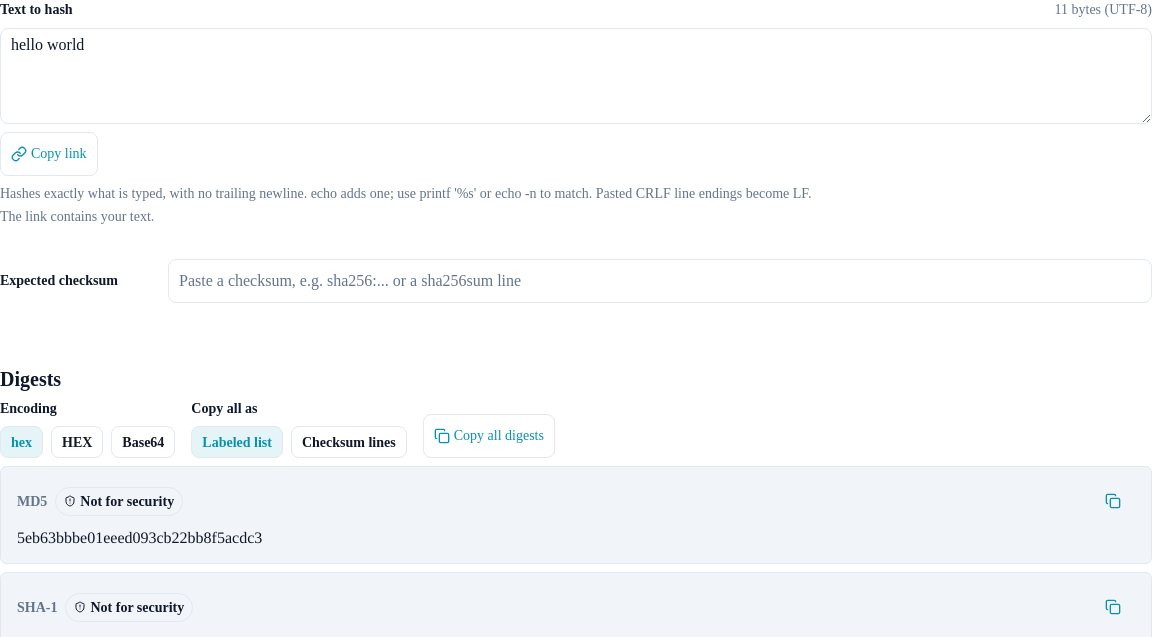
Test: INT-01 Esc › INT-01: Esc clears the verify box and an engine error notice, keeping the encoding
This screenshot has width=1152, height=637.
Click the radio button with test id "hash-encoding-HEX" at (77, 442), box [51,426,103,458]
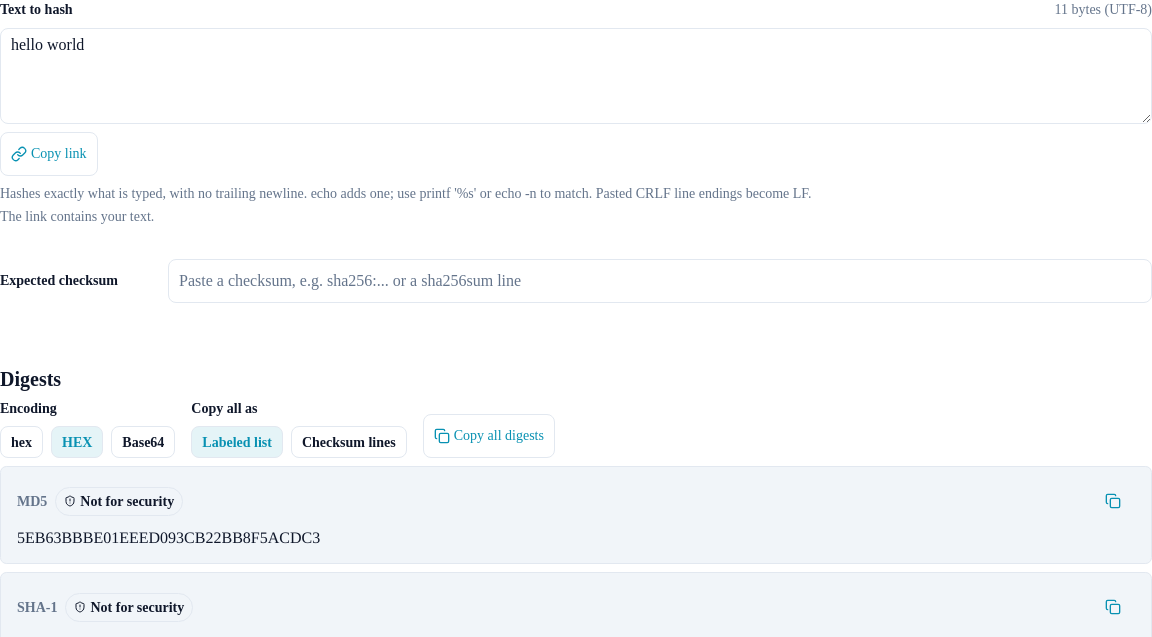
Type "deadbeef" into the field with test id "hash-verify" at (660, 281), box [168,259,1151,303]
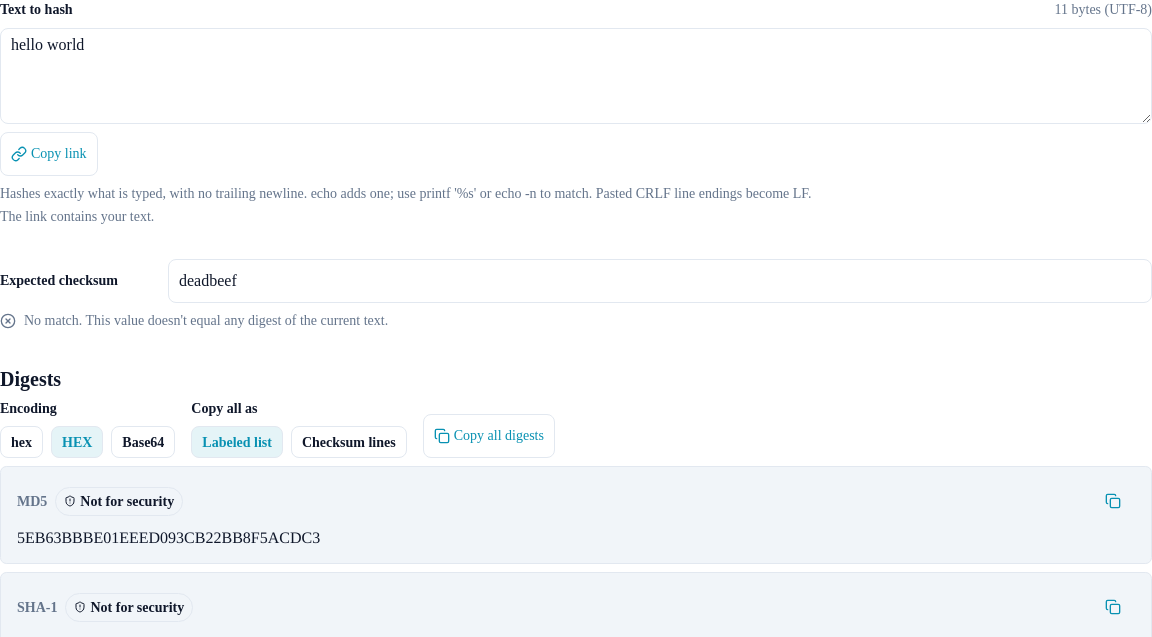
Replace the text in the text box with test id "hash-input" with "abc" at (576, 76), box [0,28,1151,124]
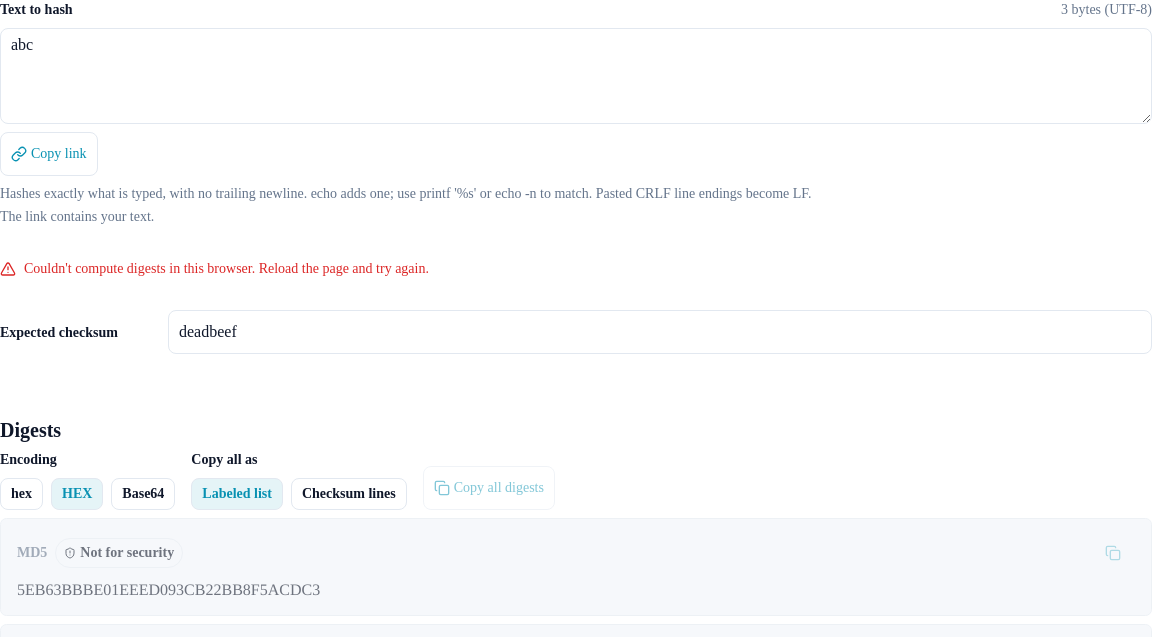
Expected: the message "Couldn't compute digests in this browser. Reload the page and try again." is shown, [0,261,429,277]
Press Escape
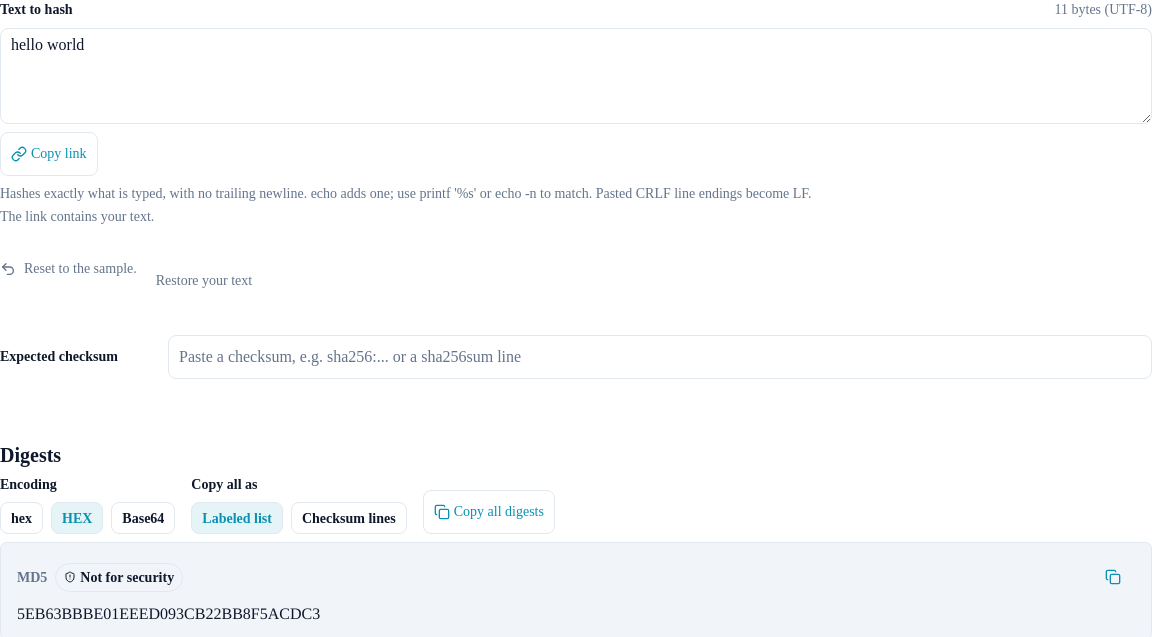
Expected: the message with test id "hash-notice-error" is gone
Expected: the field with test id "hash-verify" is empty, [168,335,1151,379]
